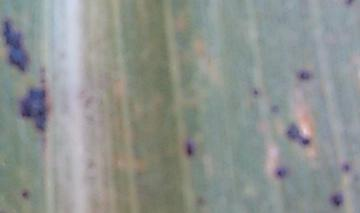tarspot: (16, 73, 55, 133), (1, 14, 34, 75), (282, 121, 312, 149), (182, 136, 196, 156), (330, 192, 345, 208), (272, 165, 287, 179), (295, 70, 311, 81), (268, 102, 281, 115), (192, 194, 206, 206), (340, 161, 352, 172), (20, 189, 31, 199), (251, 86, 260, 98), (342, 1, 356, 7)
